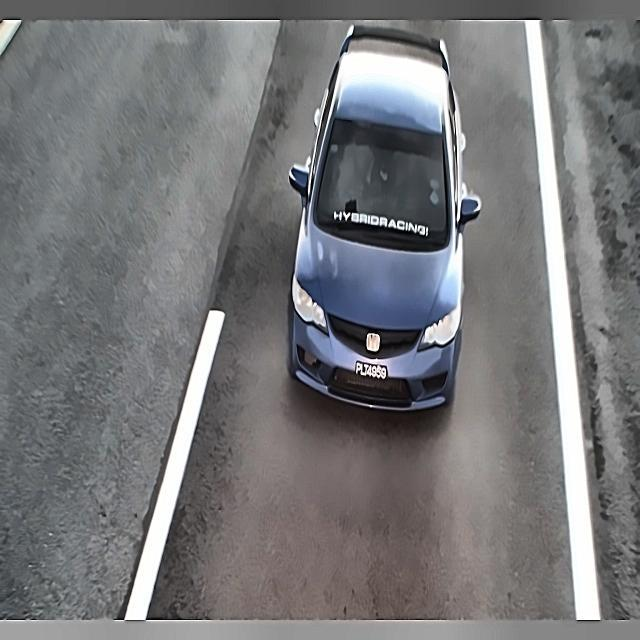car: (354, 358, 392, 385)
